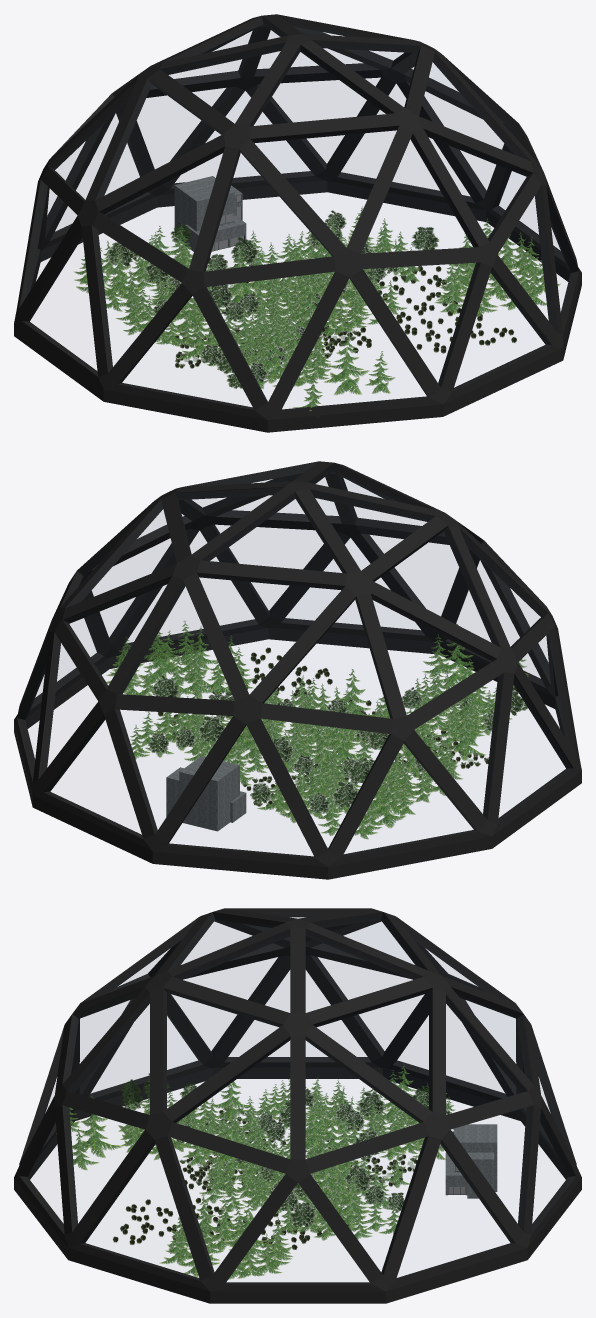
The model's file is colony.glb.
3 renders of one model, top to bottom at view 1: azimuth 30°, elevation 25°; view 2: azimuth 150°, elevation 25°; view 3: azimuth 270°, elevation 25°, orthographic. The views are drawn at different scales.
Parts seen in each view (by area): view 1: ICOSphere.001, Object_3.001, Object_3, Object_4, Object_8, Object_5, Object_6, Building, Object_9; view 2: ICOSphere.001, Object_3.001, Object_3, Object_8, Building, Object_6, Object_5, Object_4, Object_9; view 3: ICOSphere.001, Object_3.001, Object_3, Object_5, Object_8, Object_4, Object_6, Building, Object_9.
Part boxes in pixels (x1,y1,x2,y2): ICOSphere.001: (14, 14, 581, 432); Object_3.001: (134, 217, 560, 411); Object_3: (74, 226, 405, 388); Object_4: (76, 248, 293, 359); Object_8: (107, 222, 438, 388); Object_5: (123, 206, 420, 366); Object_6: (81, 230, 406, 330); Building: (174, 176, 246, 251); Object_9: (207, 210, 399, 321); ICOSphere.001: (14, 461, 581, 879); Object_3.001: (106, 621, 528, 818); Object_3: (155, 666, 494, 839); Object_8: (152, 675, 527, 813); Building: (166, 755, 246, 831); Object_6: (223, 675, 408, 835); Object_5: (130, 686, 479, 798); Object_4: (288, 699, 485, 828); Object_9: (148, 691, 388, 775); ICOSphere.001: (14, 908, 581, 1303); Object_3.001: (56, 1084, 445, 1279); Object_3: (120, 1069, 453, 1232); Object_5: (184, 1077, 399, 1240); Object_8: (120, 1073, 453, 1227); Object_4: (198, 1064, 415, 1171); Object_6: (199, 1083, 454, 1212); Building: (445, 1124, 497, 1198); Object_9: (257, 1101, 404, 1212).
Size of the model in its own units: 7.75 by 4.2 by 8.15.
Materials: 12 (8 with a texture image).
